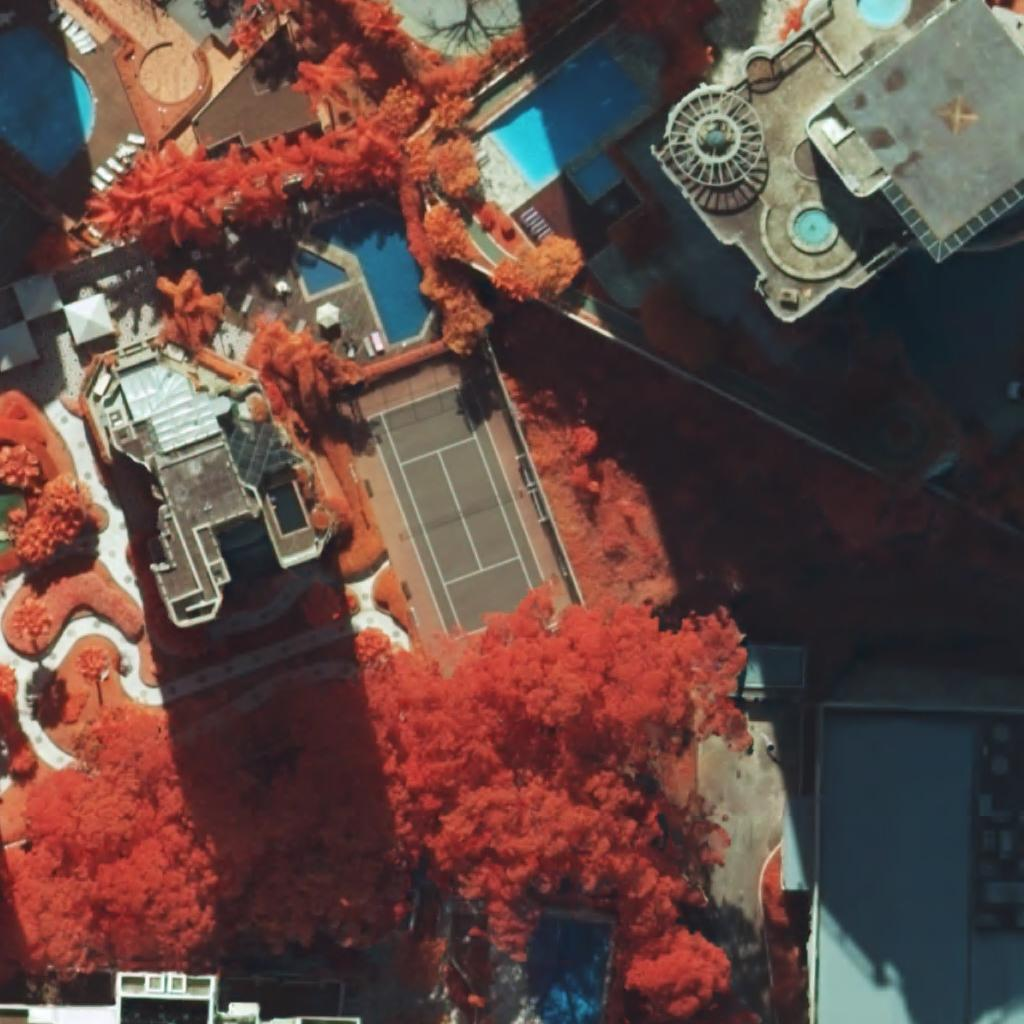pool: (486, 42, 645, 187), (309, 203, 434, 345), (0, 25, 94, 178), (528, 917, 613, 1024), (297, 249, 350, 296), (267, 482, 308, 536), (573, 153, 620, 199), (856, 0, 906, 24)
